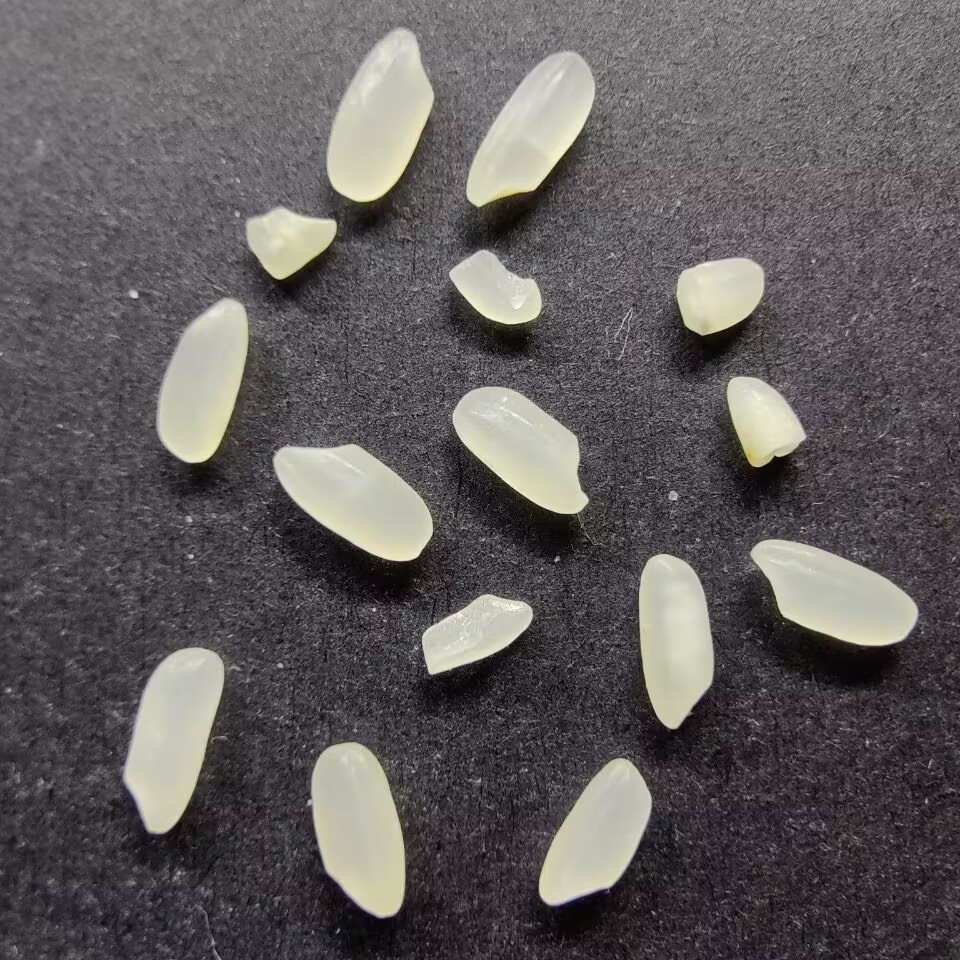broken: (422, 591, 537, 676), (723, 374, 808, 467), (244, 205, 340, 283), (677, 256, 768, 337), (449, 250, 545, 325)
rice: (466, 48, 596, 209), (268, 442, 436, 563), (121, 645, 226, 833), (326, 25, 436, 201), (747, 538, 921, 648), (451, 384, 591, 516), (308, 740, 405, 918), (539, 757, 654, 907), (156, 297, 250, 466), (636, 554, 715, 730)
